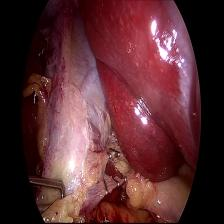Grasper: (28, 171, 70, 214)
